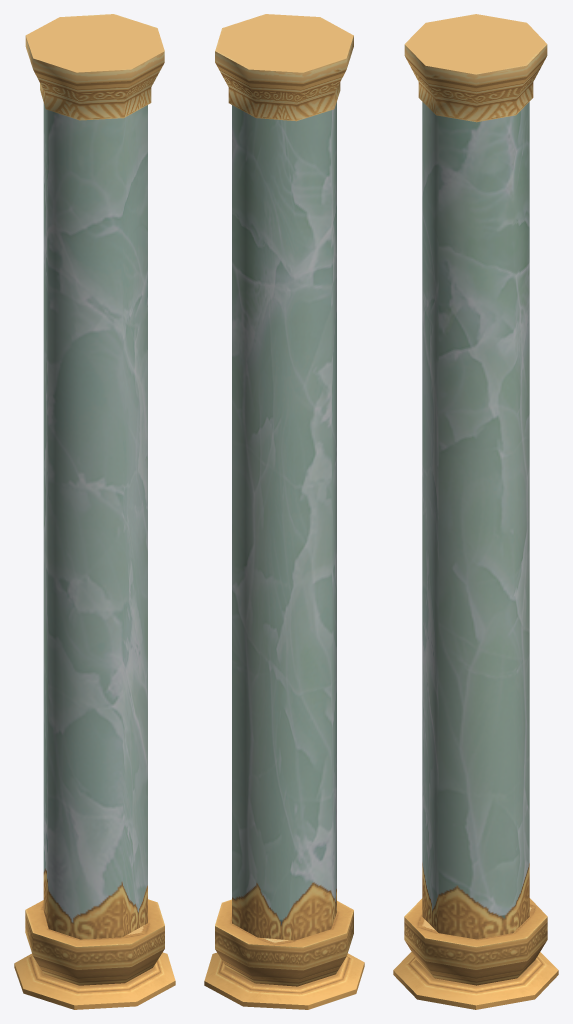
Rendered from mod_zlc_jianzhu053_1_xy.FBX.
3 renders of one model, left to right at view 1: azimuth 30°, elevation 25°; view 2: azimuth 150°, elevation 25°; view 3: azimuth 270°, elevation 25°, orthographic.
Visible parts, largest first — view 1: mod_zlc_jianzhu053_1_xy; view 2: mod_zlc_jianzhu053_1_xy; view 3: mod_zlc_jianzhu053_1_xy.
Part boxes in pixels (box(x1,y1,x2,y2)): mod_zlc_jianzhu053_1_xy: box(14, 14, 175, 1009); mod_zlc_jianzhu053_1_xy: box(204, 14, 364, 1009); mod_zlc_jianzhu053_1_xy: box(393, 14, 558, 1009).
Bounding box in the file's own units: 361 × 2236 × 360.
